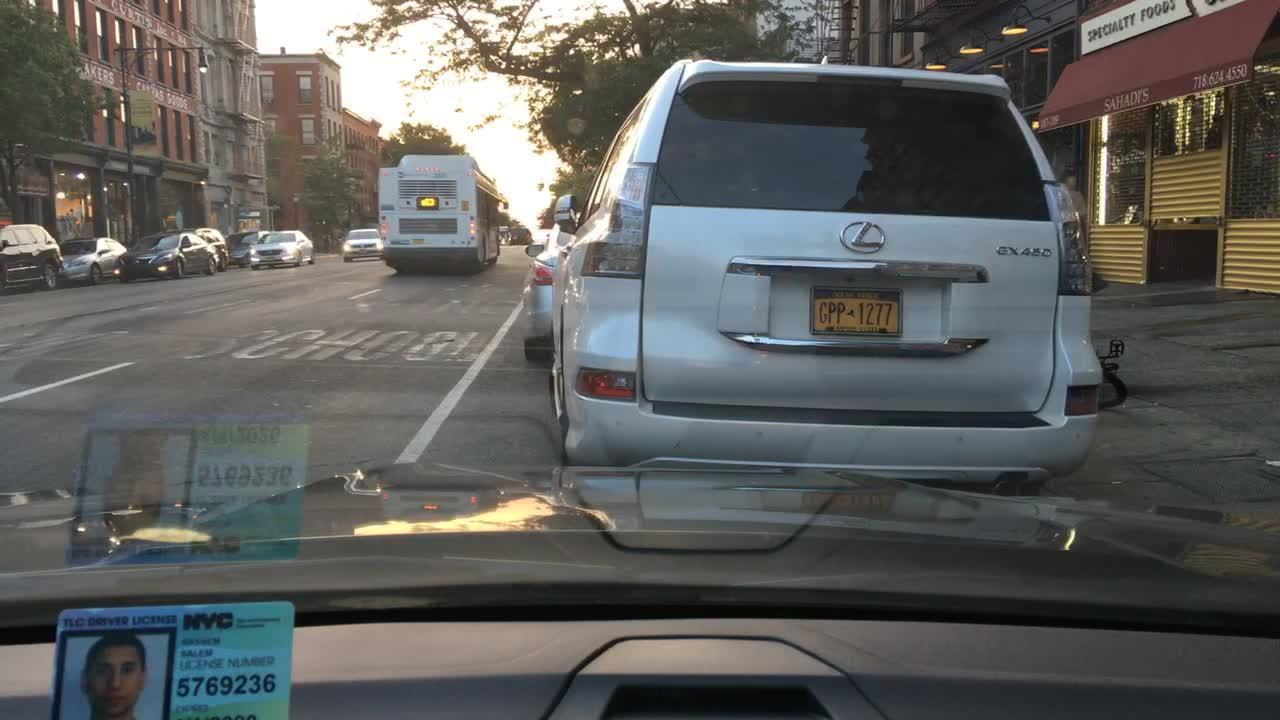lexus: (838, 219, 893, 263)
